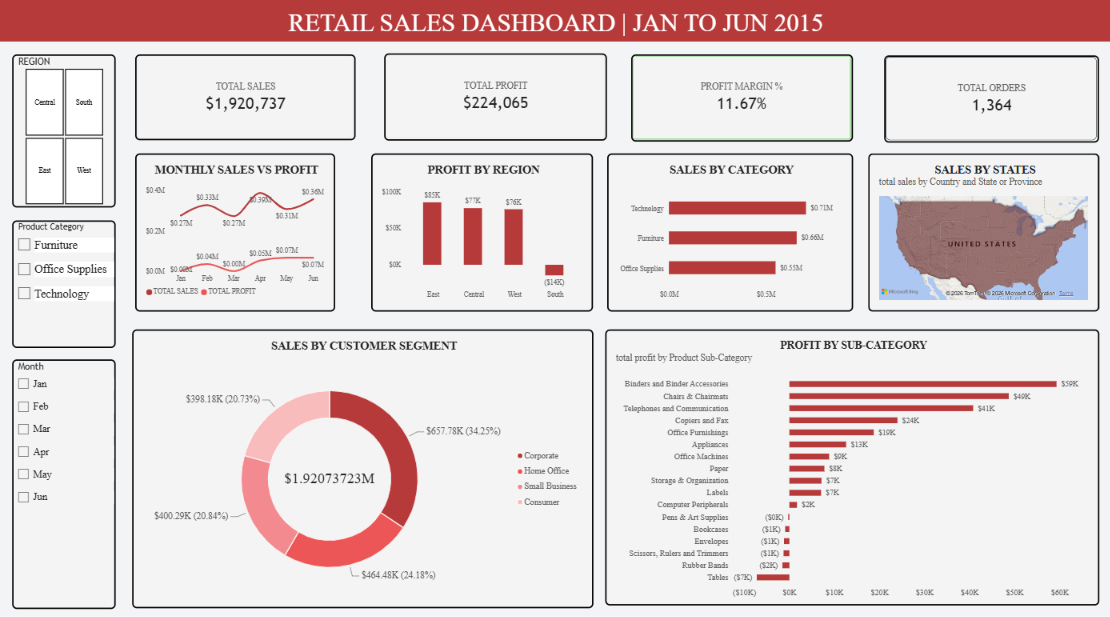

The page's visual inventory and layout, read from the dashboard file:
{"tool":"powerbi","page":{"name":"Page 1","canvas":[1920,1080],"ordinal":0},"visuals":[{"type":"cardVisual","fields":{"Data":["Calendar.SALES CARD"]},"box":[234,96,380,148],"z":0},{"type":"cardVisual","fields":{"Data":["Calendar.PROFIT CARD"]},"box":[664,94,384,150],"z":1000},{"type":"cardVisual","fields":{"Data":["orders.profit margin %"]},"box":[1090,96,382,150],"z":2000},{"type":"cardVisual","fields":{"Data":["Calendar.ORDERS CARD"]},"box":[1526,98,370,150],"z":3000},{"type":"lineChart","title":"MONTHLY SALES VS PROFIT","fields":{"Category":["Calendar.Month"],"Y":["orders.total sales","orders.total profit"]},"box":[234.5,267.2,344.8,272.4],"z":4000},{"type":"clusteredBarChart","title":"SALES BY CATEGORY","fields":{"Category":["orders.Product Category"],"Y":["orders.total sales"]},"box":[1048.3,267.2,424.1,272.4],"z":5000},{"type":"clusteredColumnChart","title":"PROFIT BY REGION","fields":{"Category":["orders.Region"],"Y":["orders.total profit"]},"box":[641.4,267.2,382.8,272.4],"z":6000},{"type":"donutChart","title":"SALES BY CUSTOMER SEGMENT","fields":{"Category":["orders.Customer Segment"],"Y":["orders.total sales"]},"box":[229.3,570.7,794.8,481],"z":7000},{"type":"barChart","title":"PROFIT BY SUB-CATEGORY","fields":{"Category":["orders.Product Sub-Category"],"Y":["orders.total profit"]},"box":[1044.8,570.7,851.7,475.9],"z":8000},{"type":"filledMap","title":"SALES BY  STATES","fields":{"Category":["orders.Country","orders.State or Province"]},"box":[1498.3,267.2,398.3,272.4],"z":9000},{"type":"slicer","fields":{"Values":["orders.Region"]},"box":[22,96,178,264],"z":10000},{"type":"slicer","fields":{"Values":["orders.Product Category"]},"box":[22,382,178,220],"z":11000},{"type":"slicer","fields":{"Values":["Calendar.Month"]},"box":[22,622,178,430],"z":12000},{"type":"textbox","box":[0,0,1920,74],"z":13000}]}

Visuals, with their boxes in screenshot pixels (x1, y1, x2, y2), scaled from the page's 1920x1080 canvas onto the 1110x617 screenshot:
cardVisual - Calendar.SALES CARD: 135, 55, 355, 139
cardVisual - Calendar.PROFIT CARD: 384, 54, 606, 139
cardVisual - orders.profit margin %: 630, 55, 851, 141
cardVisual - Calendar.ORDERS CARD: 882, 56, 1096, 142
"MONTHLY SALES VS PROFIT" lineChart: 136, 153, 335, 308
"SALES BY CATEGORY" clusteredBarChart: 606, 153, 851, 308
"PROFIT BY REGION" clusteredColumnChart: 371, 153, 592, 308
"SALES BY CUSTOMER SEGMENT" donutChart: 133, 326, 592, 601
"PROFIT BY SUB-CATEGORY" barChart: 604, 326, 1096, 598
"SALES BY  STATES" filledMap: 866, 153, 1096, 308
slicer - orders.Region: 13, 55, 116, 206
slicer - orders.Product Category: 13, 218, 116, 344
slicer - Calendar.Month: 13, 355, 116, 601
textbox: 0, 0, 1109, 42
